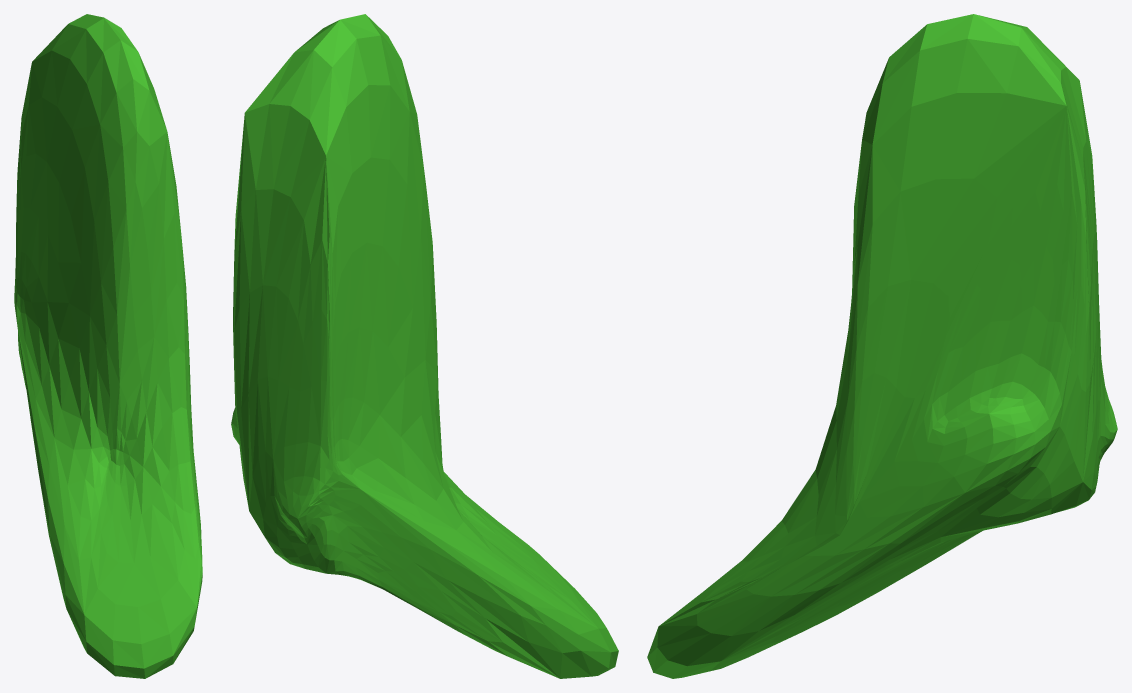
The picture shows the model from 3 angles, left to right: view 1: azimuth 30°, elevation 25°; view 2: azimuth 150°, elevation 25°; view 3: azimuth 270°, elevation 25°; orthographic projection. The views are drawn at different scales.
Parts seen in each view (by area): view 1: 761_Cube.3065; view 2: 761_Cube.3065; view 3: 761_Cube.3065.
Boxes of the visible parts, x1=… form: 761_Cube.3065: x1=14, y1=14, x2=202, y2=678; 761_Cube.3065: x1=231, y1=14, x2=618, y2=678; 761_Cube.3065: x1=647, y1=14, x2=1117, y2=678.
Bounding box in the file's own units: 5.48 × 16.18 × 9.7.
